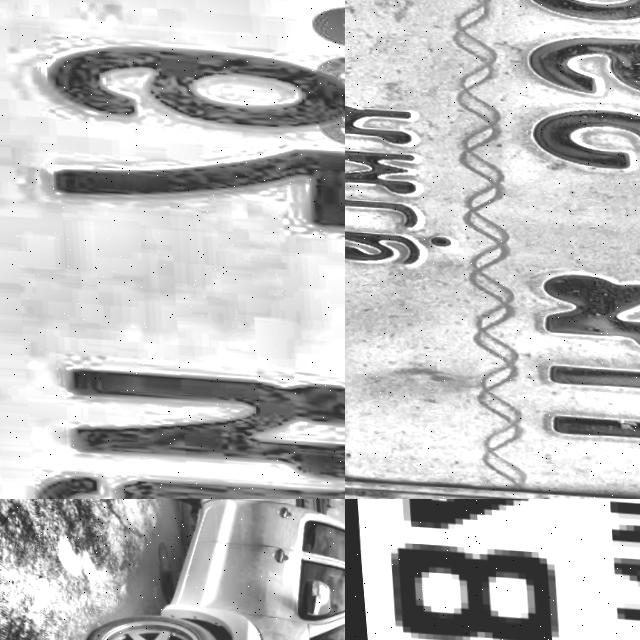license-plate: (0, 0, 345, 499), (345, 0, 640, 499), (345, 499, 640, 640)
